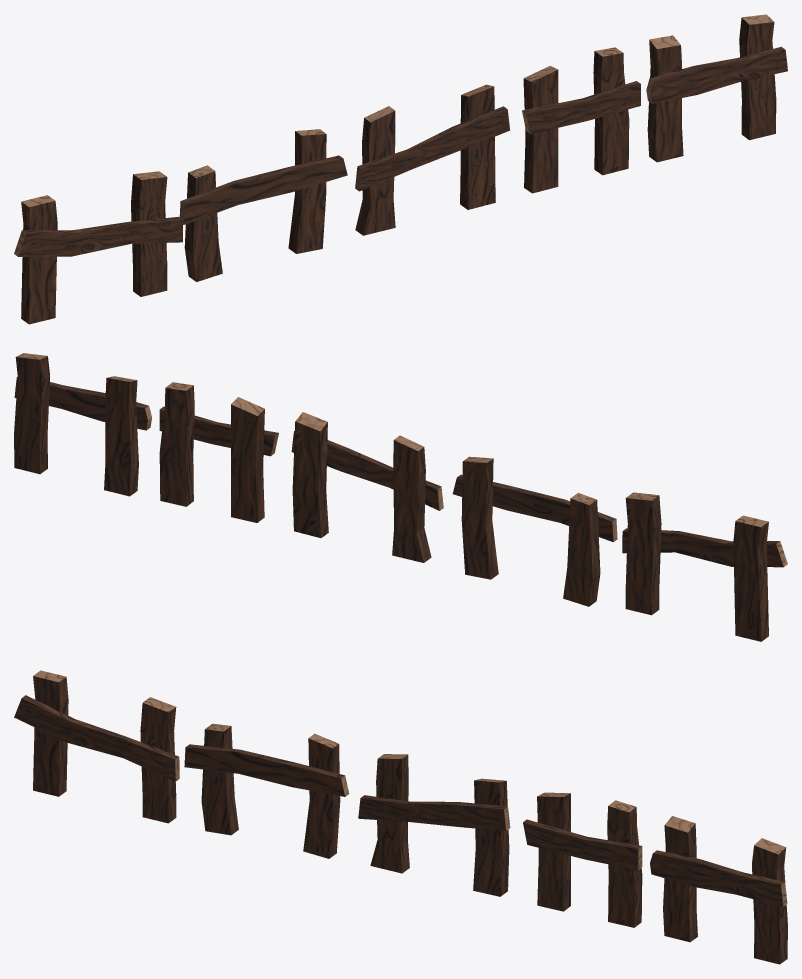
The model's file is Fence_Asset.fbx.
3 views of the same model, one above another, from view 1: azimuth 30°, elevation 25°; view 2: azimuth 150°, elevation 25°; view 3: azimuth 330°, elevation 25° (orthographic). The views are drawn at different scales.
Visible parts, largest first — view 1: Fence.001, Fence.003, Fence.005, Fence.002, Fence.004; view 2: Fence.001, Fence.003, Fence.002, Fence.005, Fence.004; view 3: Fence.001, Fence.005, Fence.003, Fence.002, Fence.004.
Part boxes in pixels (x1=…): Fence.001: x1=14, y1=171, x2=182, y2=324; Fence.003: x1=355, y1=84, x2=510, y2=235; Fence.005: x1=646, y1=14, x2=787, y2=162; Fence.002: x1=179, y1=129, x2=347, y2=281; Fence.004: x1=522, y1=47, x2=640, y2=193; Fence.001: x1=622, y1=492, x2=787, y2=641; Fence.003: x1=291, y1=412, x2=443, y2=562; Fence.002: x1=452, y1=456, x2=617, y2=606; Fence.005: x1=14, y1=353, x2=151, y2=496; Fence.004: x1=159, y1=382, x2=278, y2=522; Fence.001: x1=14, y1=670, x2=179, y2=823; Fence.005: x1=650, y1=816, x2=787, y2=964; Fence.003: x1=358, y1=754, x2=510, y2=896; Fence.002: x1=184, y1=723, x2=349, y2=858; Fence.004: x1=523, y1=792, x2=642, y2=927.
Size of the model in its own units: 484 by 73.39 by 23.98.
1 material, 1 textured.
